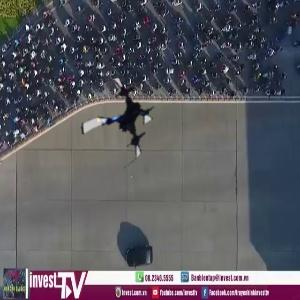drone: (74, 78, 165, 169)
